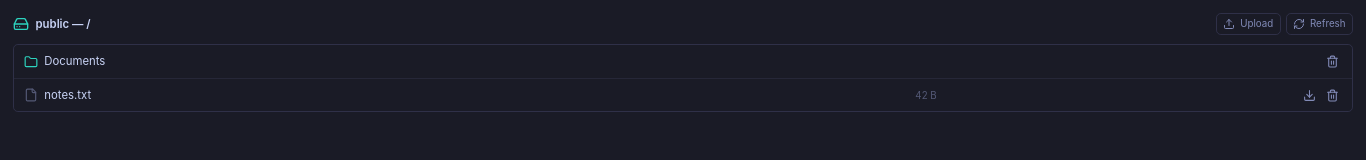
Scenario: SmbBrowser › navigates into a folder on click and shows an Up button
Check: the text "Documents" is shown, box [44,53,105,70]
Click the button "Documents" at (65, 62), box [24,53,105,70]
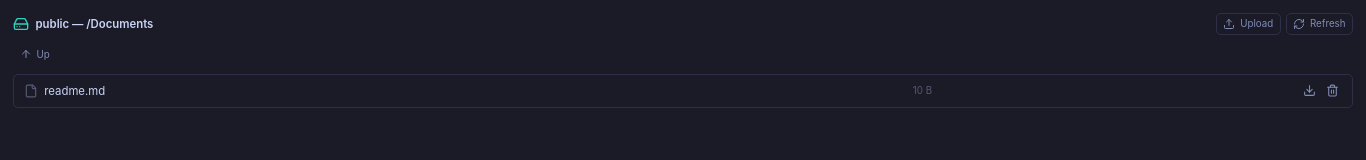
Check: the text "readme.md" is shown, box [44,83,105,99]
Check: the button "Up" is shown, box [13,44,56,64]
